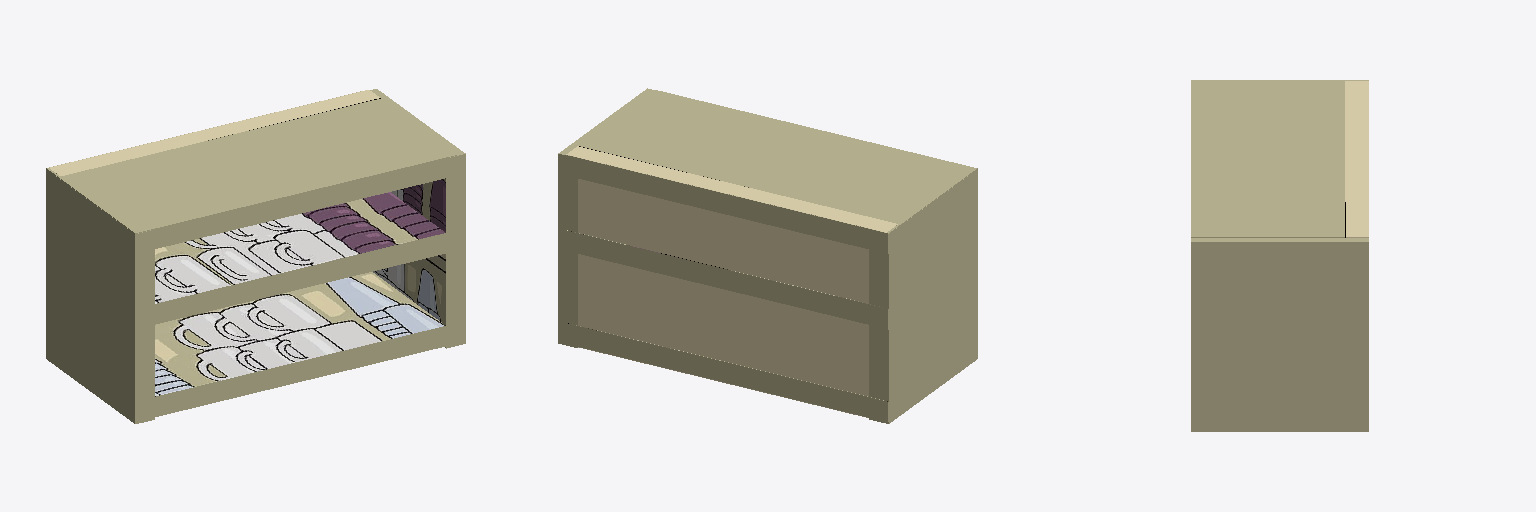
3 renders of one model, left to right at view 1: azimuth 30°, elevation 25°; view 2: azimuth 150°, elevation 25°; view 3: azimuth 270°, elevation 25°, orthographic.
Visible parts, largest first — view 1: repisa:pCube14; view 2: repisa:pCube14; view 3: repisa:pCube14.
Part boxes in pixels (left/top/right/bottom): repisa:pCube14: left=46, top=89, right=465, bottom=423; repisa:pCube14: left=558, top=88, right=977, bottom=423; repisa:pCube14: left=1191, top=80, right=1368, bottom=431.
Bounding box in the file's own units: 2.46 × 1.36 × 1.15.
2 materials, 2 textured.